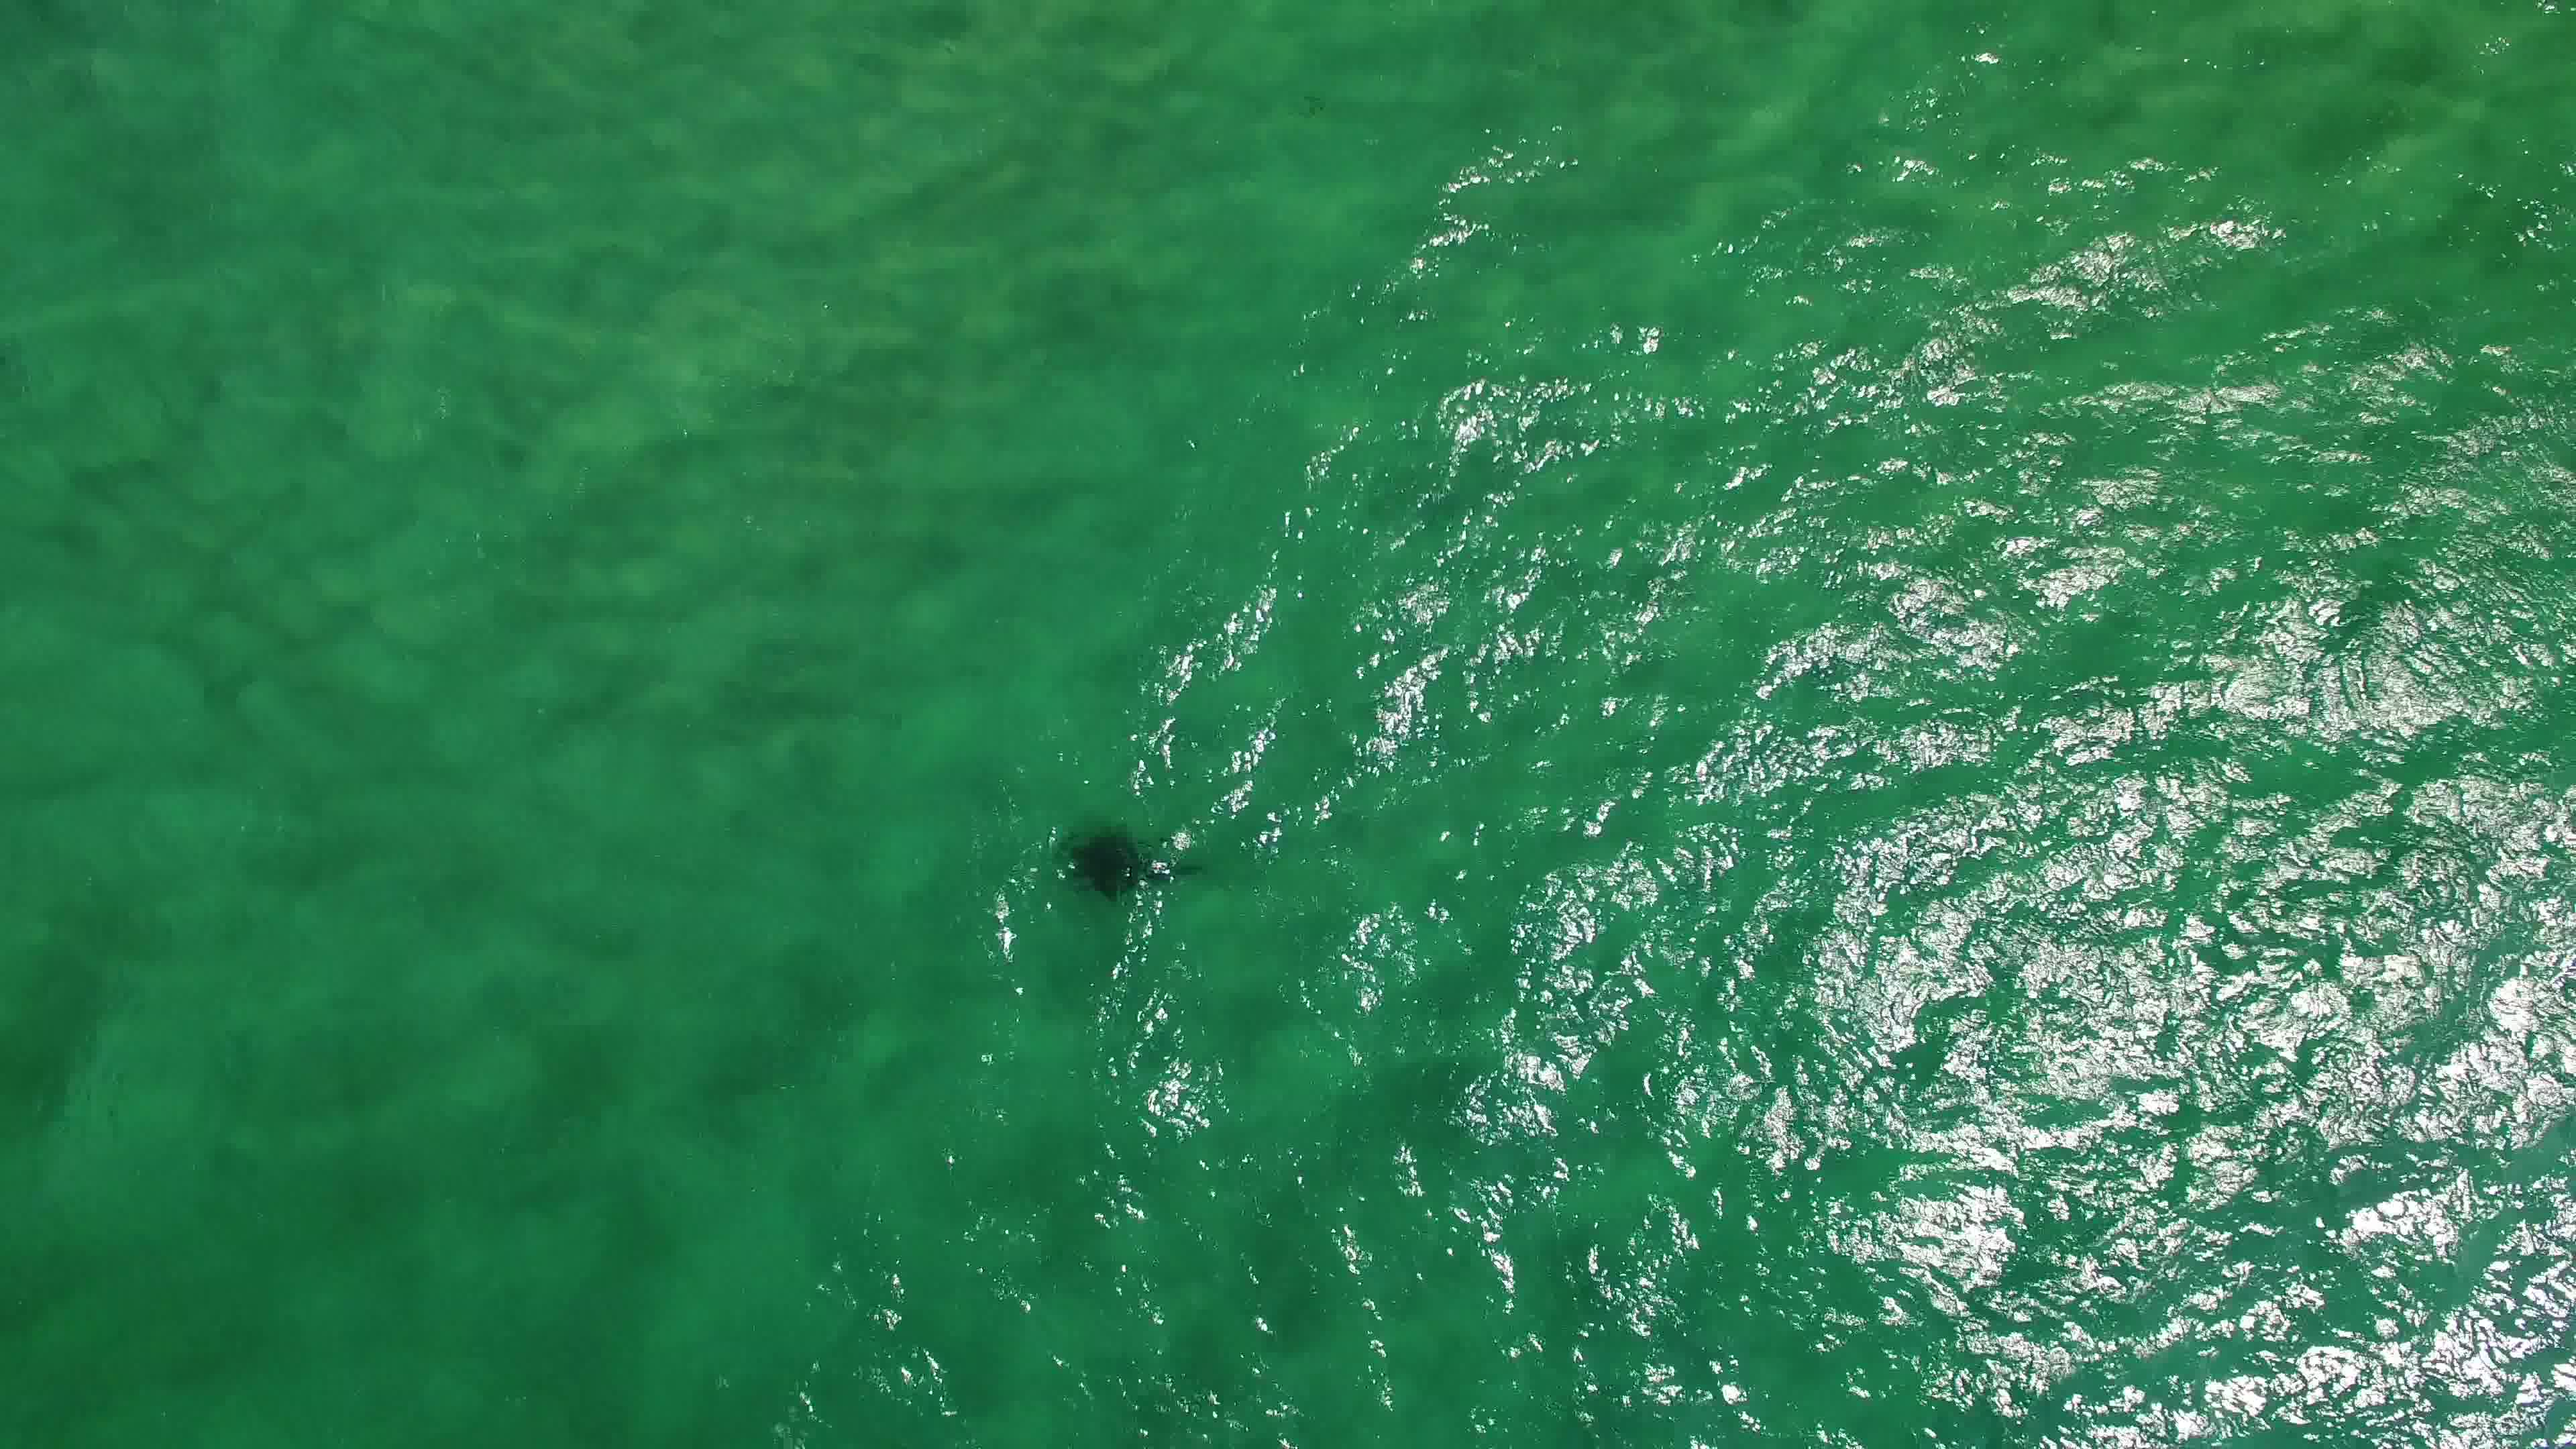shark: (1049, 824, 1207, 906)
